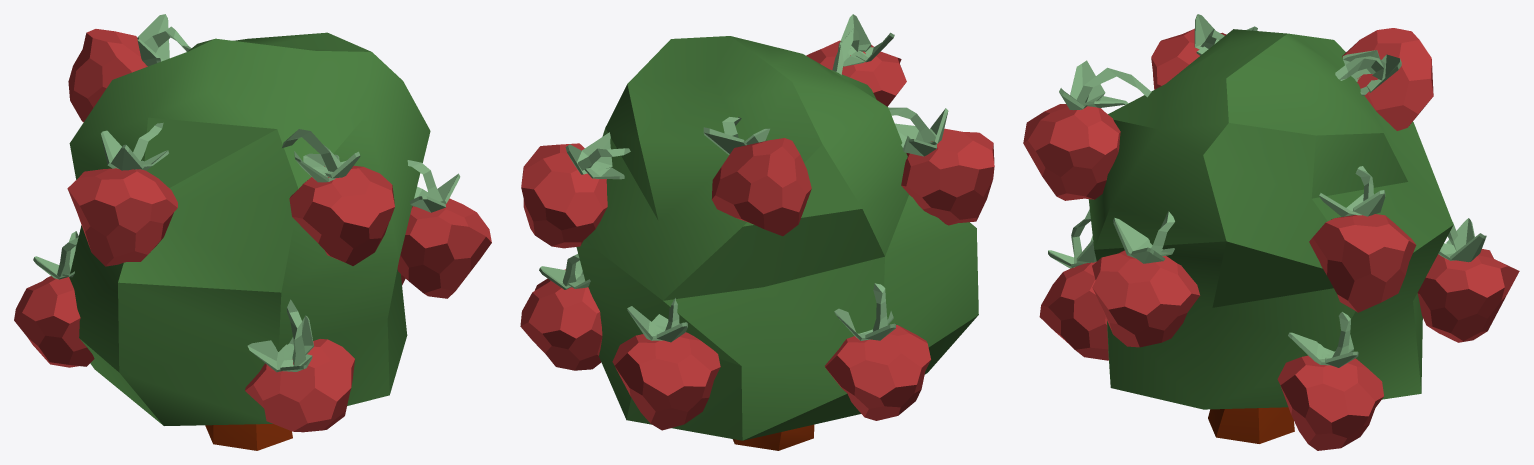
The model's file is octo2.fbx.
3 renders of one model, left to right at view 1: azimuth 30°, elevation 25°; view 2: azimuth 150°, elevation 25°; view 3: azimuth 270°, elevation 25°, orthographic.
Visible parts, largest first — view 1: Leaves, Fruit, Trunk; view 2: Leaves, Fruit, Trunk; view 3: Leaves, Fruit, Trunk.
Boxes of the visible parts, x1,y1,x2,y2 form: Leaves: [69, 32, 430, 425]; Fruit: [14, 14, 491, 432]; Trunk: [205, 424, 292, 450]; Leaves: [576, 36, 978, 440]; Fruit: [520, 14, 994, 430]; Trunk: [732, 424, 814, 450]; Leaves: [1088, 29, 1453, 409]; Fruit: [1023, 14, 1519, 450]; Trunk: [1208, 407, 1294, 443].
Bounding box in the file's own units: 1.03 × 0.9348 × 1.11.
